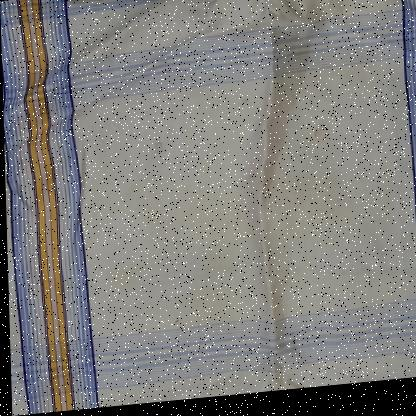spot: (106, 269, 137, 291), (311, 125, 330, 150), (238, 100, 253, 115), (154, 141, 164, 160), (92, 0, 106, 13), (206, 77, 222, 85), (245, 177, 253, 186), (368, 166, 378, 173), (189, 260, 199, 267), (192, 270, 200, 277), (170, 321, 179, 327)
